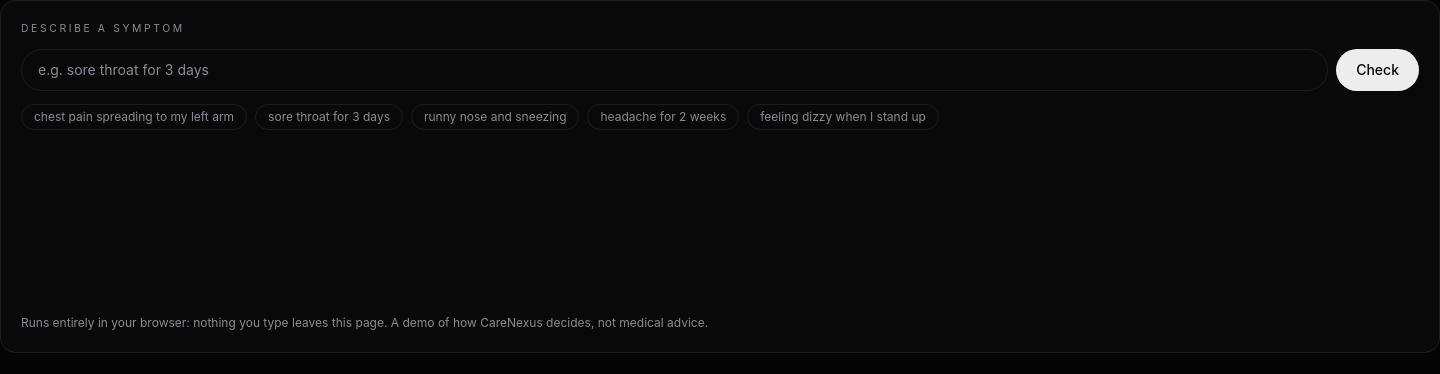
Scenario: pocket triage demo › an emergency says to call now; a crisis points to people who can help
This screenshot has width=1440, height=374.
Type "chest pain spreading to my left arm" into the field labelled "Describe a symptom" at (675, 70), box [21,49,1328,91]
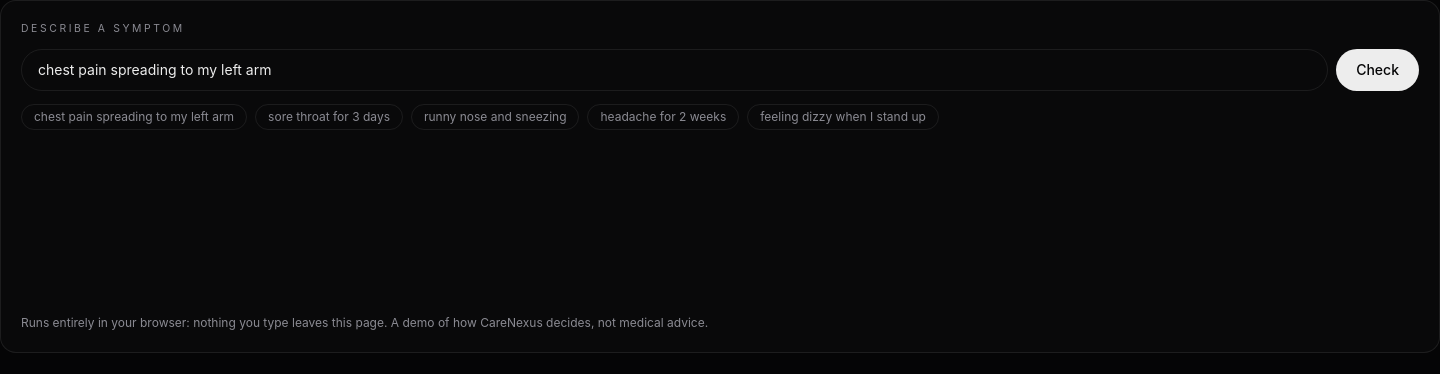
Submit the form labelled "Describe a symptom", box [21,21,1419,130]
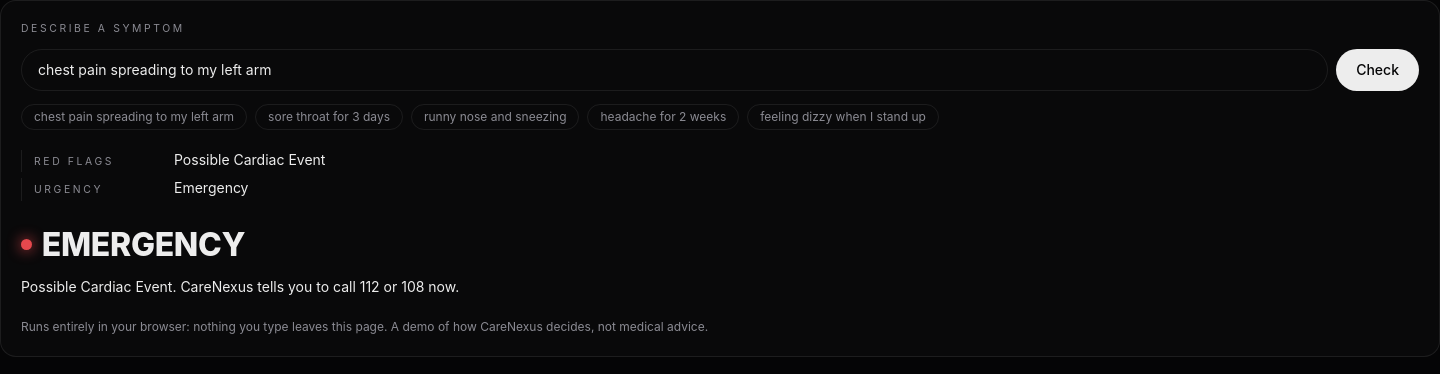
Expected: the element with test id "triage-result" reads "Emergency Possible Cardiac Event. CareNexus tells you to call 112 or 108 now.", [21,225,459,295]
Replace the text in the field labelled "Describe a symptom" with "I want to die" at (675, 70), box [21,49,1328,91]
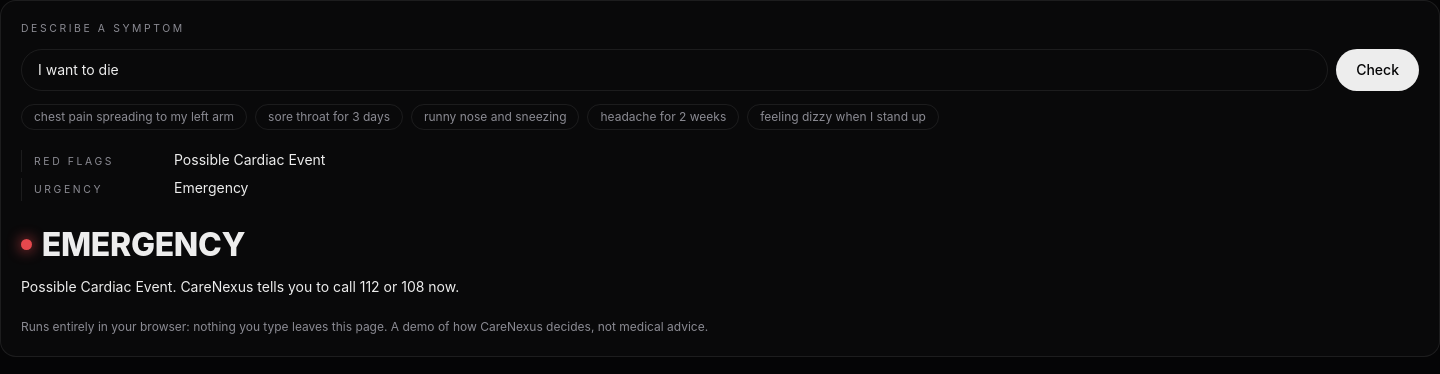
Submit the form labelled "Describe a symptom", box [21,21,1419,130]
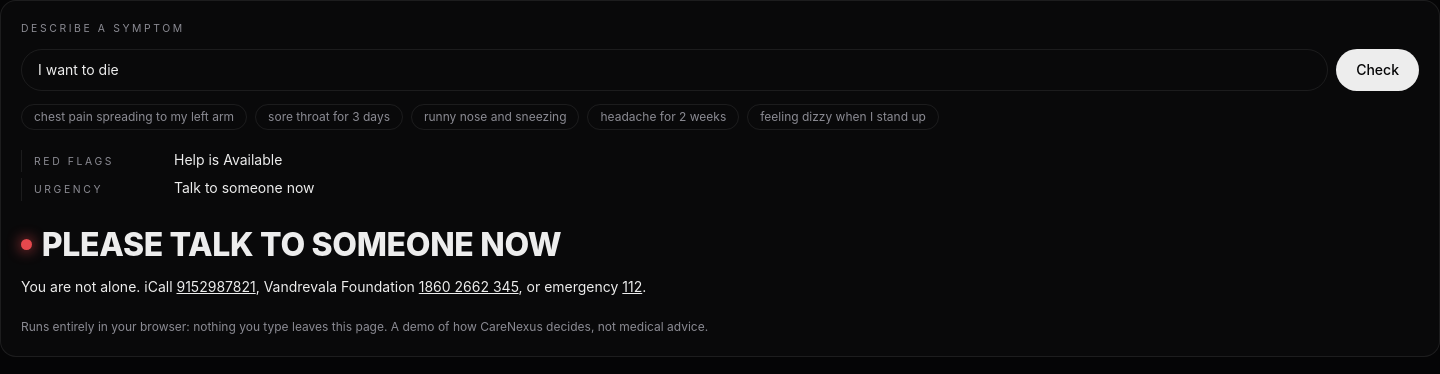
Expected: the element with test id "triage-result" shows "talk to someone", [42,225,561,264]
